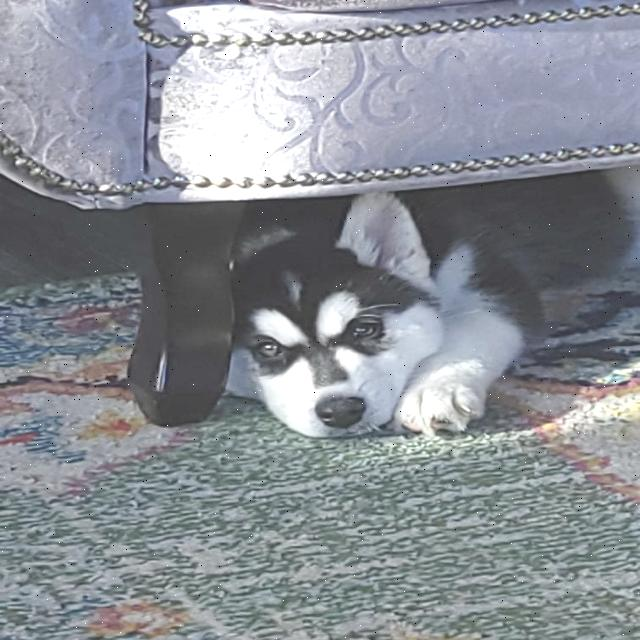siberian_husky_dog: (222, 190, 538, 443)
